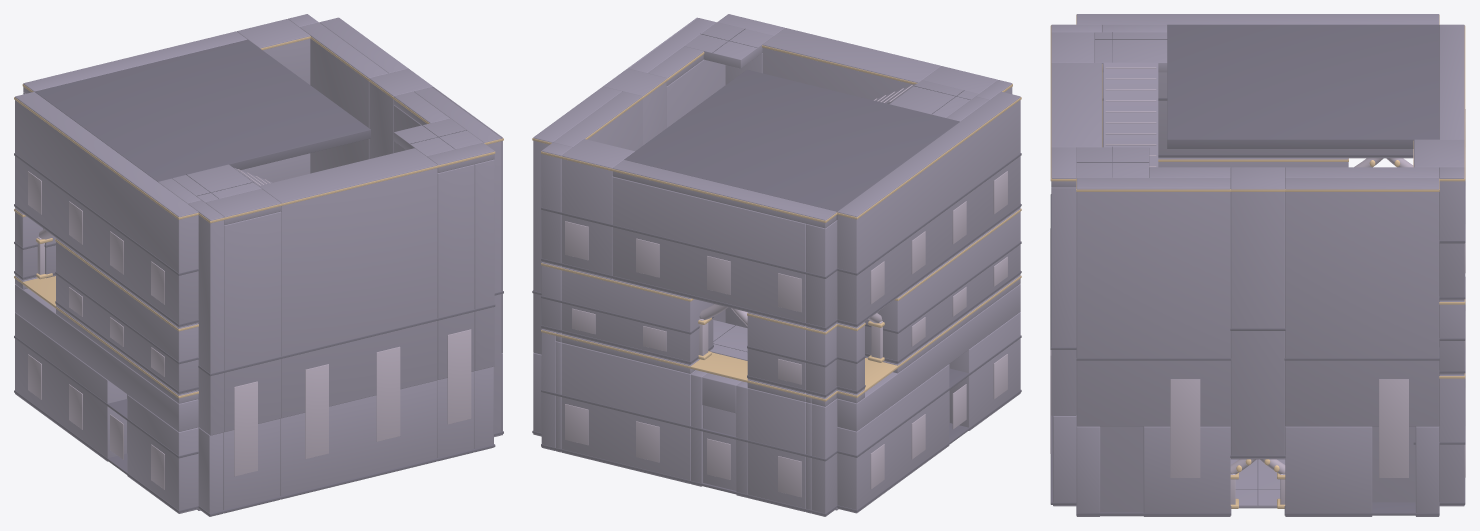
File: castle_district_keep_cursed.glb
The picture shows the model from 3 angles, left to right: view 1: azimuth 30°, elevation 25°; view 2: azimuth 150°, elevation 25°; view 3: azimuth 270°, elevation 25°; orthographic projection. The views are drawn at different scales.
Visible parts, largest first — view 1: castle_district_keep_cursed_surface; view 2: castle_district_keep_cursed_surface; view 3: castle_district_keep_cursed_surface.
Boxes of the visible parts, x1,y1,x2,y2 form: castle_district_keep_cursed_surface: [14, 14, 503, 516]; castle_district_keep_cursed_surface: [532, 14, 1021, 516]; castle_district_keep_cursed_surface: [1050, 14, 1465, 516].
Bounding box in the file's own units: 22.88 × 20.62 × 22.88.
